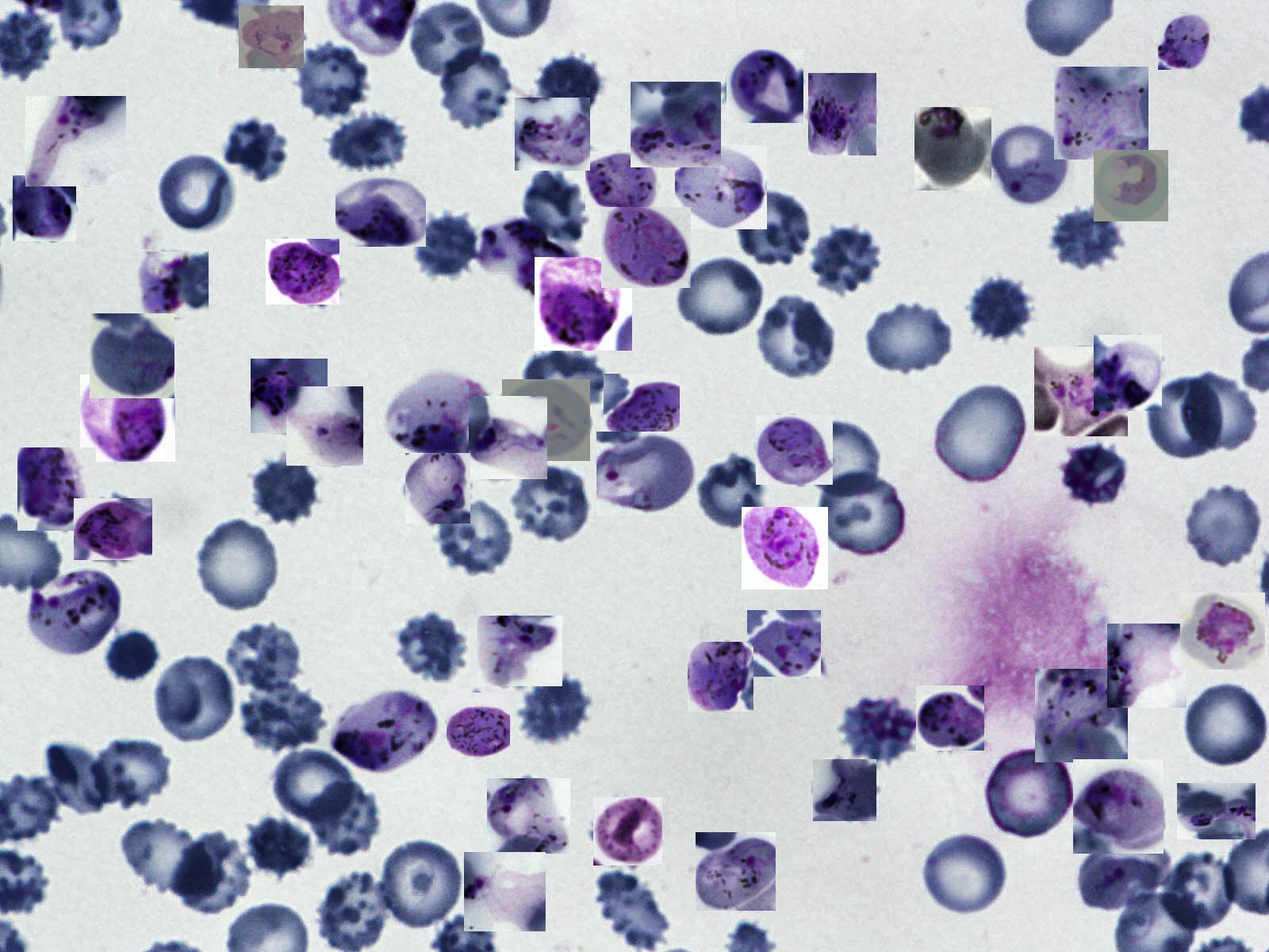Infected: (386, 367, 491, 463), (330, 686, 438, 774), (535, 257, 632, 351), (25, 96, 126, 186), (25, 569, 122, 661), (1035, 669, 1128, 762), (1054, 67, 1148, 159), (1073, 759, 1164, 854), (596, 432, 696, 516), (1034, 347, 1128, 436), (80, 374, 175, 462), (474, 213, 578, 292), (675, 145, 767, 229), (631, 83, 721, 168), (987, 122, 1075, 207), (601, 207, 691, 288), (502, 379, 590, 461), (90, 313, 174, 398), (742, 507, 828, 589), (336, 172, 427, 247), (1107, 624, 1187, 708), (17, 447, 96, 531), (1180, 593, 1265, 670), (464, 852, 546, 931), (469, 396, 547, 479), (914, 107, 991, 190), (696, 832, 776, 911), (487, 778, 570, 854), (286, 386, 363, 466), (477, 616, 562, 686), (251, 359, 328, 433), (727, 49, 804, 123), (808, 73, 876, 155), (515, 98, 590, 171), (756, 415, 833, 485), (1094, 150, 1168, 221), (1094, 335, 1162, 411), (604, 374, 680, 440), (747, 610, 821, 677), (74, 498, 152, 560), (266, 239, 339, 305), (593, 797, 662, 866), (138, 251, 209, 317), (405, 453, 470, 524), (688, 642, 753, 712), (585, 152, 658, 213), (1177, 783, 1256, 839), (916, 685, 984, 750), (13, 175, 76, 241), (447, 693, 510, 758), (239, 6, 304, 68), (813, 759, 876, 821), (1158, 13, 1211, 70)
Uninfected: (935, 381, 1030, 486), (983, 745, 1075, 844), (194, 516, 283, 614), (377, 835, 466, 932), (915, 835, 1016, 918), (817, 468, 909, 559), (674, 253, 769, 339), (753, 293, 840, 382), (1074, 839, 1173, 916), (119, 819, 215, 896), (153, 655, 236, 744), (864, 297, 956, 375), (174, 831, 256, 918), (1183, 482, 1264, 570), (270, 746, 358, 826), (730, 184, 815, 265), (508, 464, 595, 543), (1184, 685, 1267, 766), (431, 499, 517, 577), (523, 347, 610, 424), (289, 40, 370, 122), (302, 783, 387, 861), (1148, 375, 1225, 459), (156, 155, 236, 235), (802, 421, 882, 501), (86, 733, 171, 808), (240, 682, 328, 754), (694, 451, 772, 530), (1179, 372, 1257, 451), (593, 870, 670, 950), (439, 48, 512, 130), (323, 108, 412, 171), (411, 0, 485, 75), (396, 611, 469, 686), (839, 695, 918, 764), (511, 676, 593, 742), (1164, 854, 1235, 930), (964, 271, 1037, 344), (226, 624, 302, 689), (810, 224, 884, 290), (44, 742, 108, 816), (533, 51, 607, 115), (403, 215, 478, 278), (522, 169, 585, 244), (1060, 438, 1128, 507), (243, 810, 314, 876), (1052, 205, 1123, 267), (224, 119, 289, 182), (255, 455, 317, 520), (105, 629, 162, 681)
